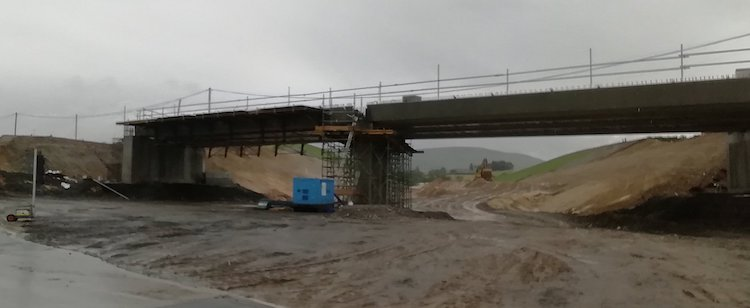bridge: (114, 68, 742, 148)
